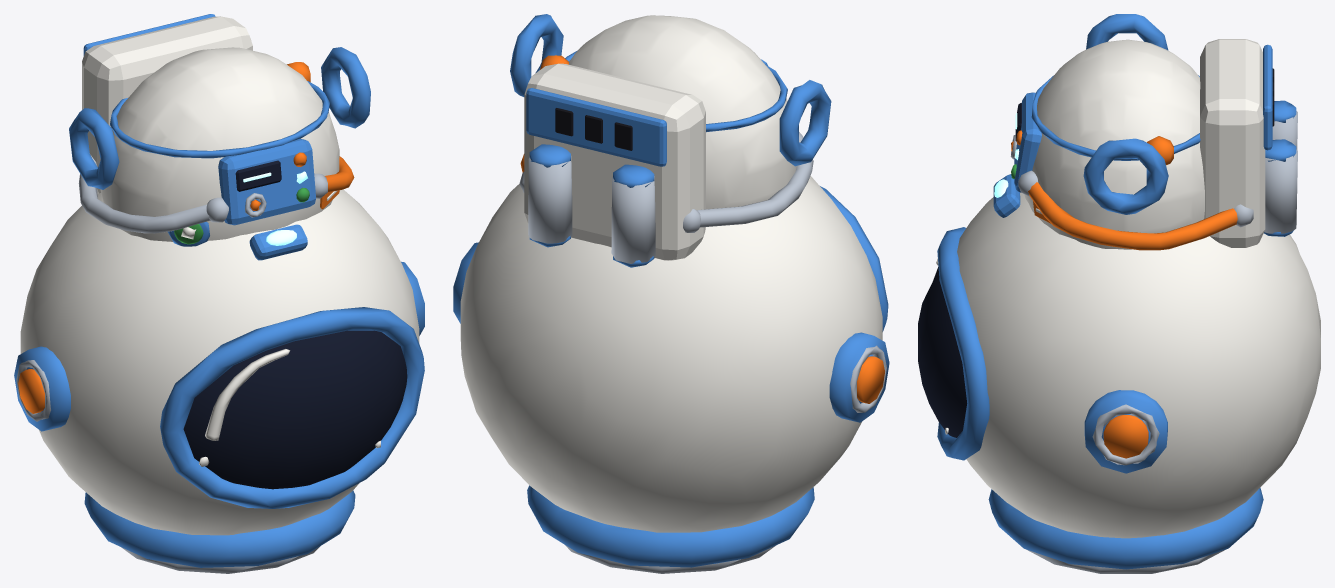
Rendered from astronaut-low.glb.
3 views of the same model, side by side, from view 1: azimuth 30°, elevation 25°; view 2: azimuth 150°, elevation 25°; view 3: azimuth 270°, elevation 25° (orthographic). The views are drawn at different scales.
Visible parts, largest first — view 1: astronaut_Head, astronaut_Body; view 2: astronaut_Head, astronaut_Body; view 3: astronaut_Head, astronaut_Body.
Part boxes in pixels (x1,y1,x2,y2): astronaut_Head: [14, 62, 424, 573]; astronaut_Body: [69, 14, 370, 246]; astronaut_Head: [453, 55, 889, 573]; astronaut_Body: [510, 14, 831, 267]; astronaut_Head: [918, 136, 1320, 573]; astronaut_Body: [1010, 14, 1297, 250].
Bounding box in the file's own units: 0.272 × 0.3226 × 0.2461.
